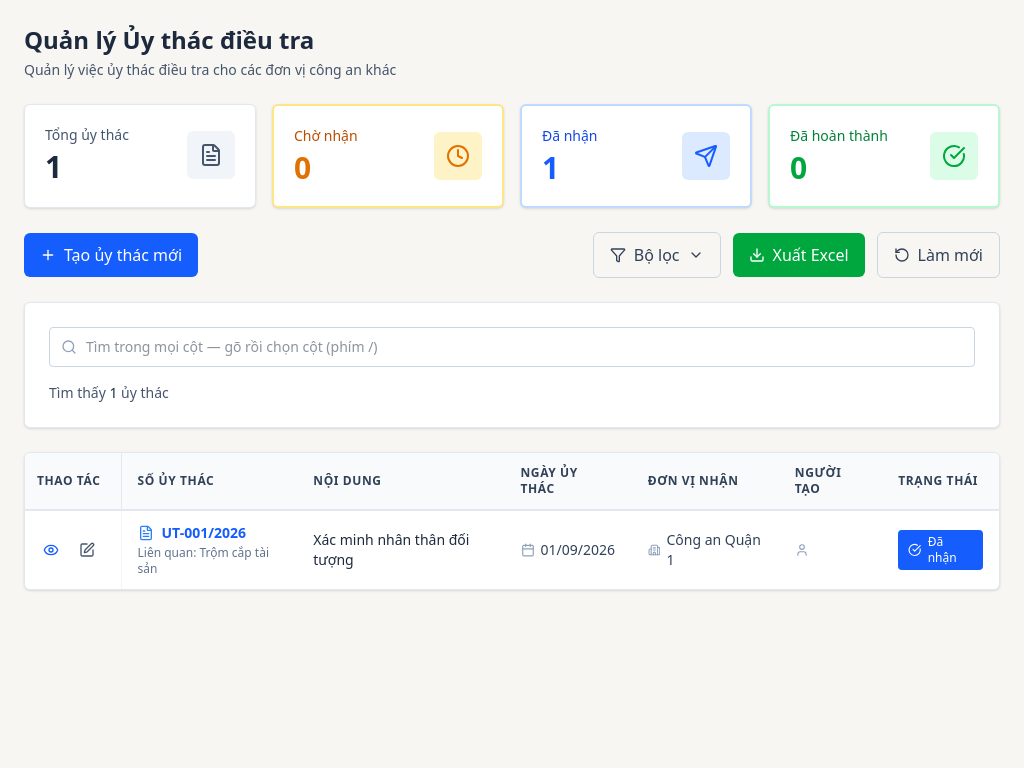
Test case: Ủy thác điều tra — lưu › ô Vụ án liên quan chỉ hiển thị, không cho gõ
Click the button with test id "edit-delegation-d1".
click(87, 550)  # box left=73, top=536, right=101, bottom=564
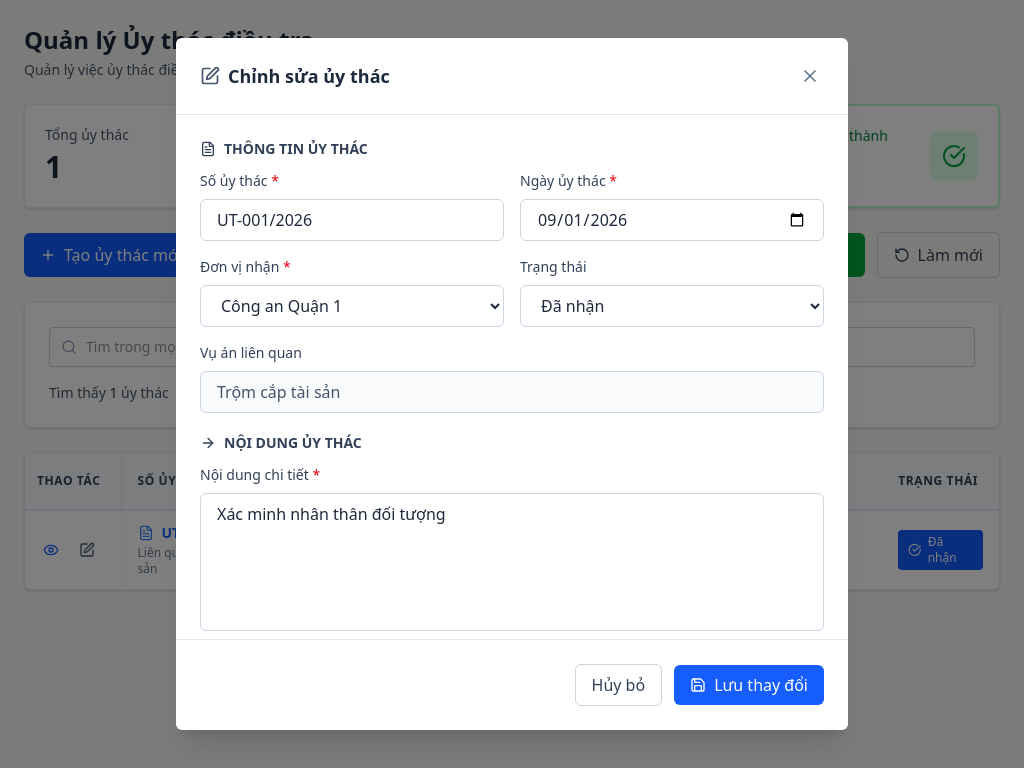
Check: the field with test id "related-case-input" holds "Trộm cắp tài sản", box left=200, top=371, right=824, bottom=413
